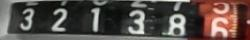digits: (127, 9, 145, 34), (210, 16, 229, 38), (167, 13, 186, 35), (51, 7, 68, 31), (18, 7, 34, 30), (90, 7, 100, 32)
